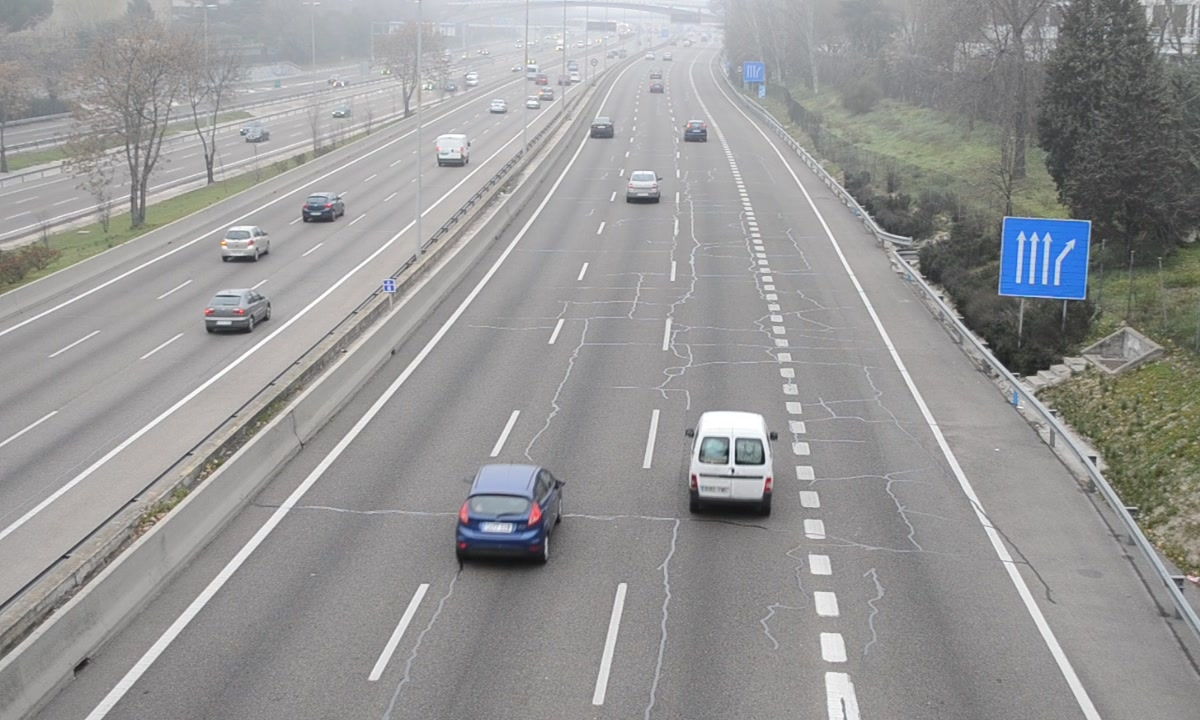car: (457, 465, 564, 558), (626, 170, 660, 202), (589, 115, 616, 139), (683, 120, 709, 142)
van: (691, 412, 774, 512)
